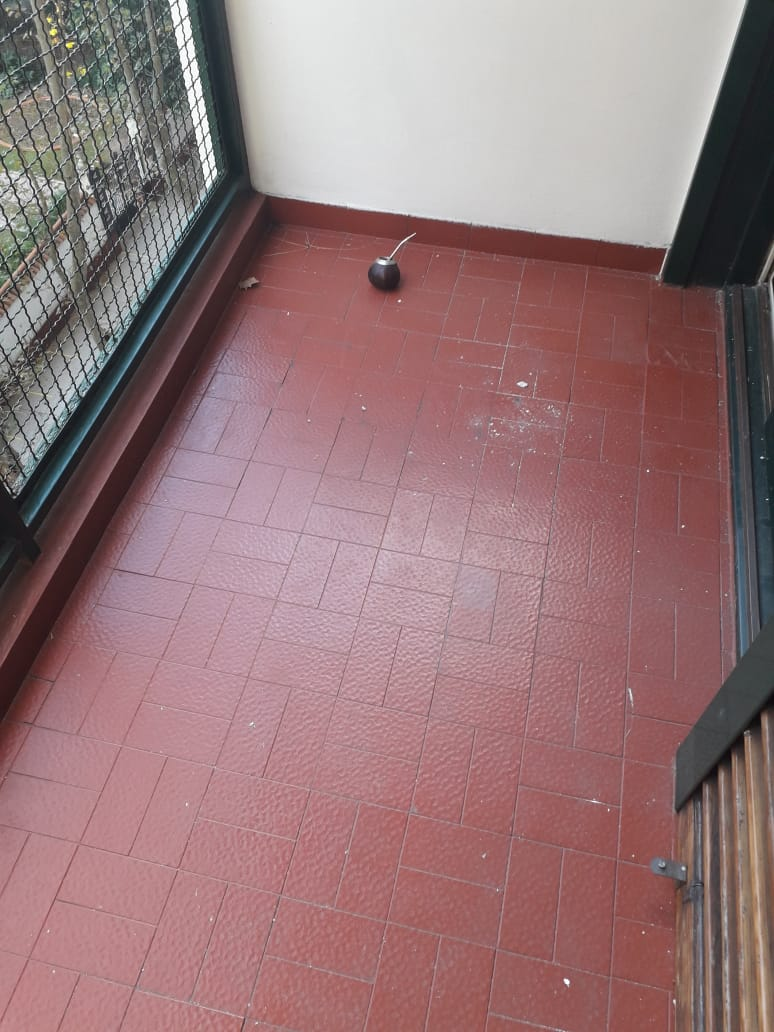calabaza: (364, 227, 421, 290)
mate: (366, 229, 423, 292)
